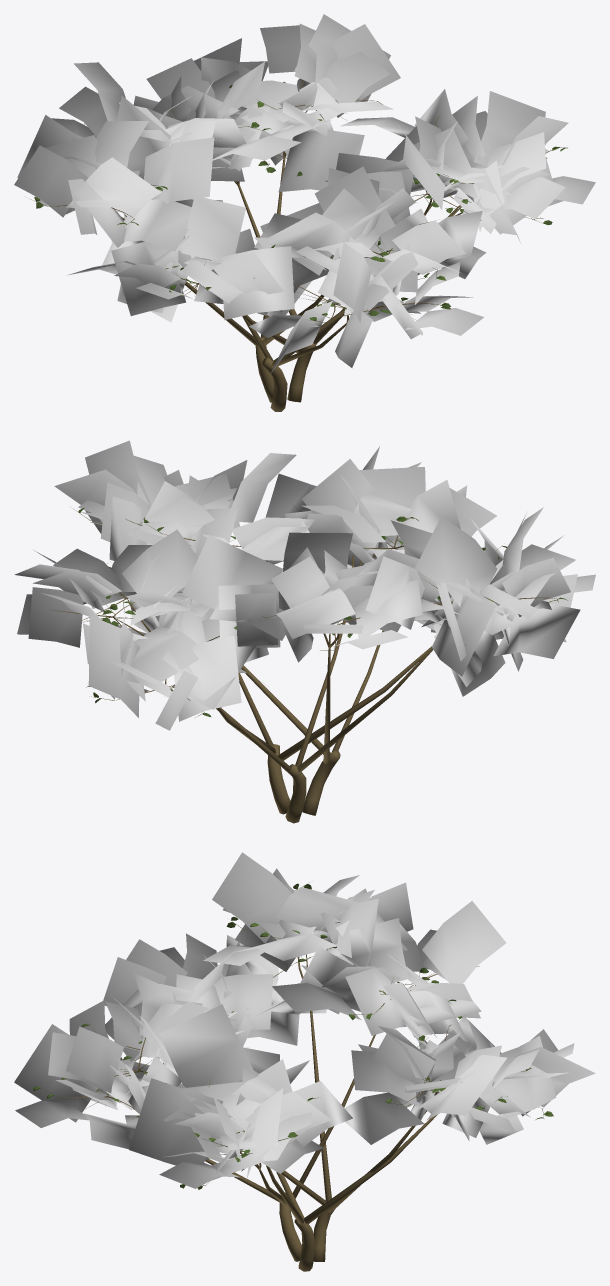
The model's file is V7_Lentisque_0_Niveau1.fbx.
3 views of the same model, one above another, from view 1: azimuth 30°, elevation 25°; view 2: azimuth 150°, elevation 25°; view 3: azimuth 270°, elevation 25° (orthographic). The views are drawn at different scales.
Parts seen in each view (by area): view 1: V7_Lentisque_0_Detail1; view 2: V7_Lentisque_0_Detail1; view 3: V7_Lentisque_0_Detail1.
Part boxes in pixels (x1,y1,x2,y2): V7_Lentisque_0_Detail1: [14, 14, 595, 411]; V7_Lentisque_0_Detail1: [14, 440, 595, 823]; V7_Lentisque_0_Detail1: [14, 852, 595, 1271].
Size of the model in its own units: 312 by 188 by 315.
